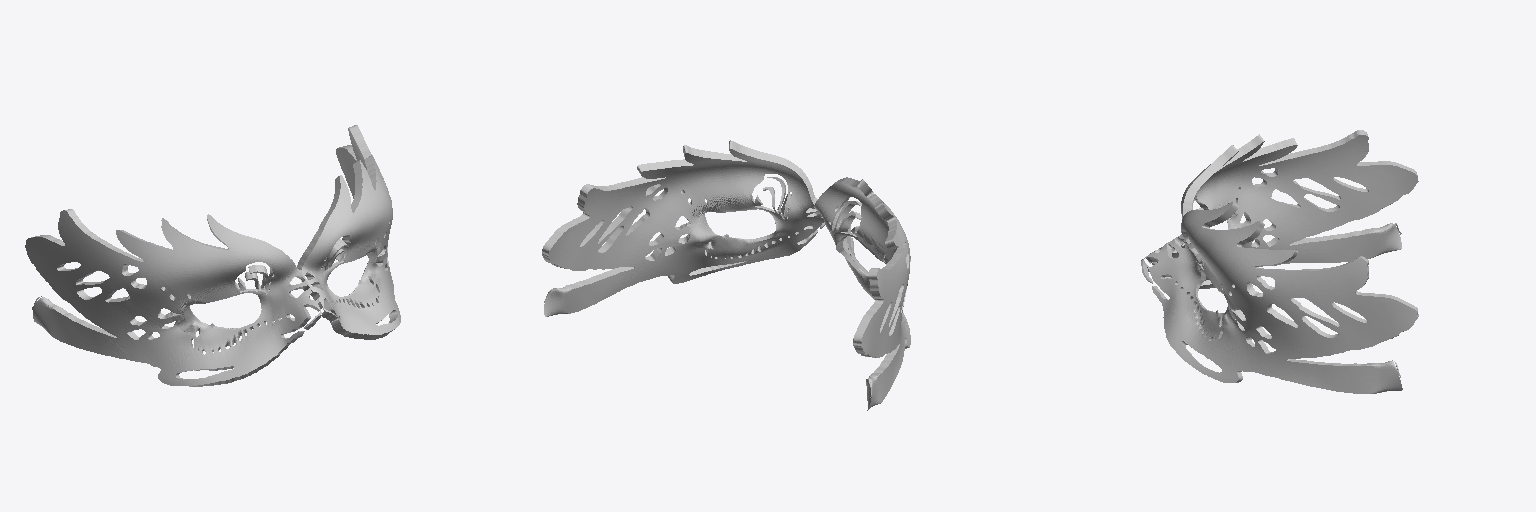
Rendered from uploads_files_55304_mask1.OBJ.
3 renders of one model, left to right at view 1: azimuth 30°, elevation 25°; view 2: azimuth 150°, elevation 25°; view 3: azimuth 270°, elevation 25°, orthographic.
Visible parts, largest first — view 1: Group18324; view 2: Group18324; view 3: Group18324.
Part boxes in pixels (x1,y1,x2,y2): Group18324: (25,125,400,386); Group18324: (542,140,910,410); Group18324: (1141,130,1418,393).
Bounding box in the file's own units: 1.5 × 0.73 × 1.1.